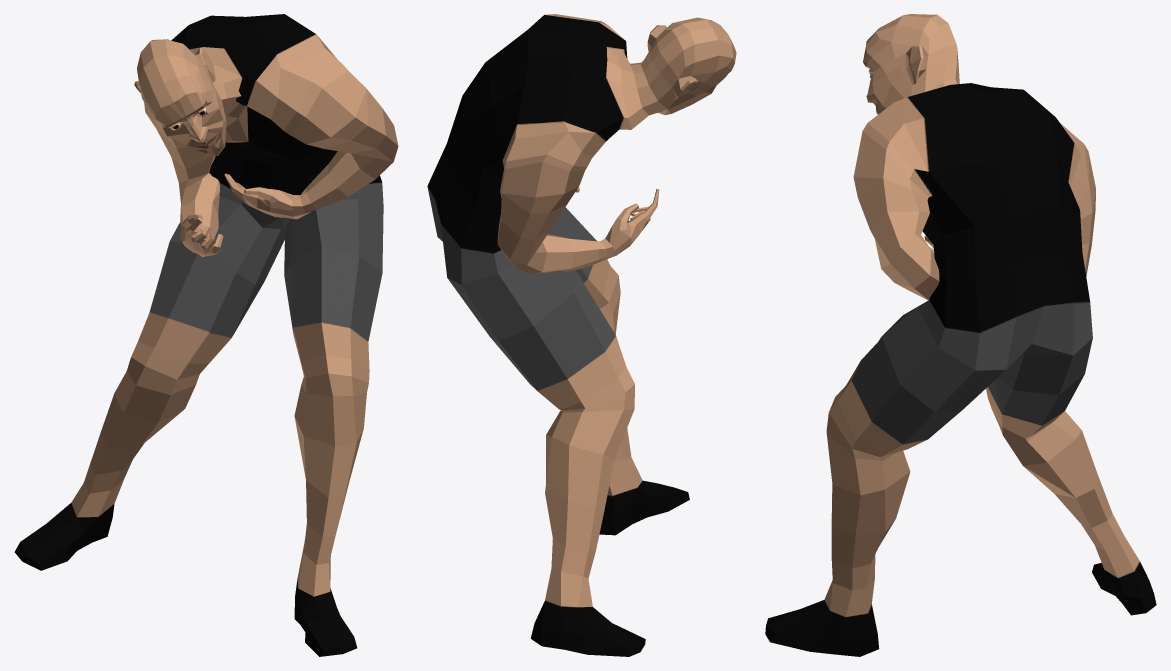
Rendered from PlayerDead(22).obj.
3 renders of one model, left to right at view 1: azimuth 30°, elevation 25°; view 2: azimuth 150°, elevation 25°; view 3: azimuth 270°, elevation 25°, orthographic. The views are drawn at different scales.
Parts seen in each view (by area): view 1: Plane002; view 2: Plane002; view 3: Plane002.
Boxes of the visible parts, x1=… form: Plane002: x1=14, y1=14, x2=398, y2=656; Plane002: x1=427, y1=14, x2=736, y2=656; Plane002: x1=765, y1=14, x2=1156, y2=656.
Bounding box in the file's own units: 703 × 1393 × 852.
